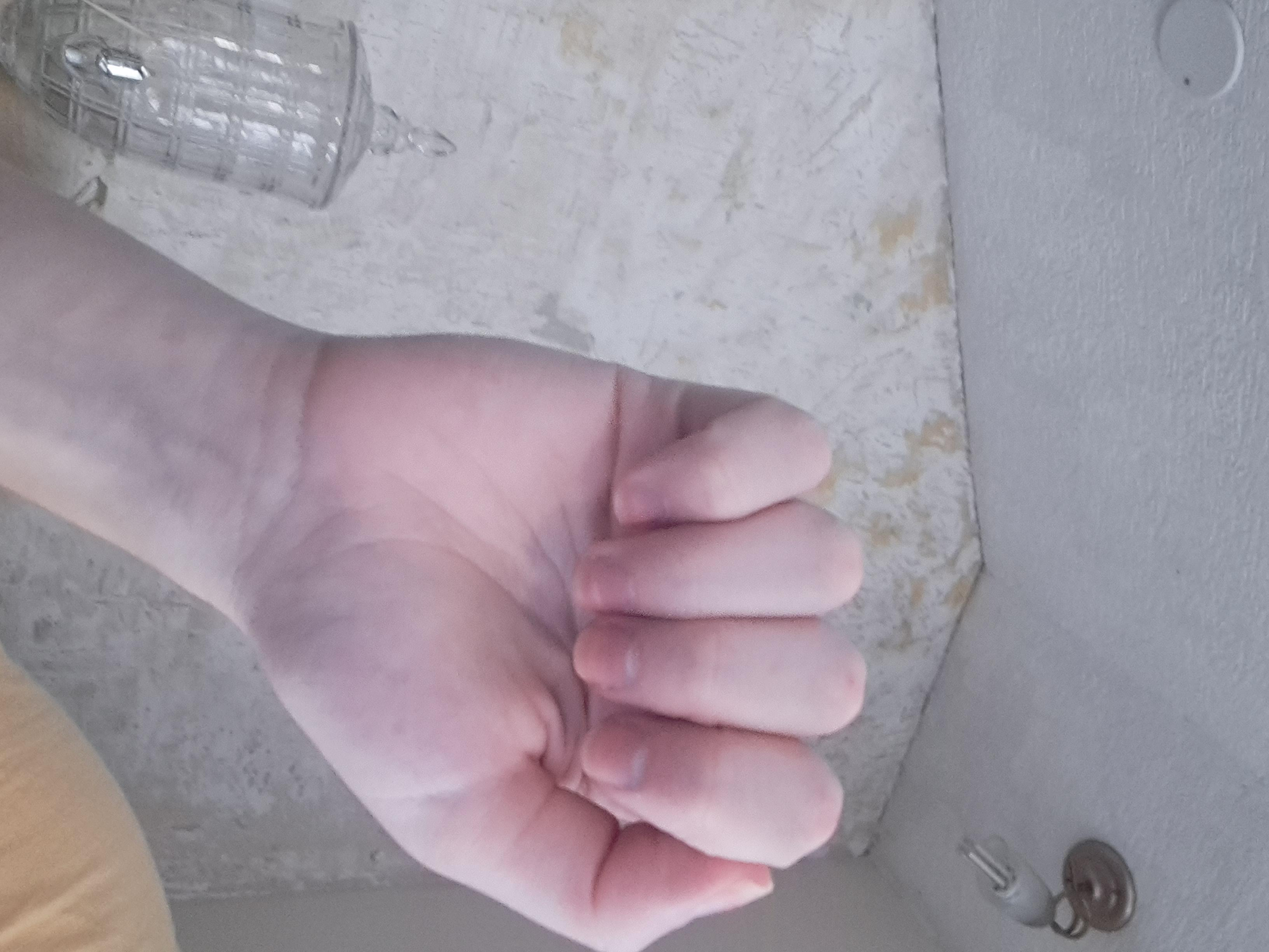A: (446, 292, 1269, 744)
